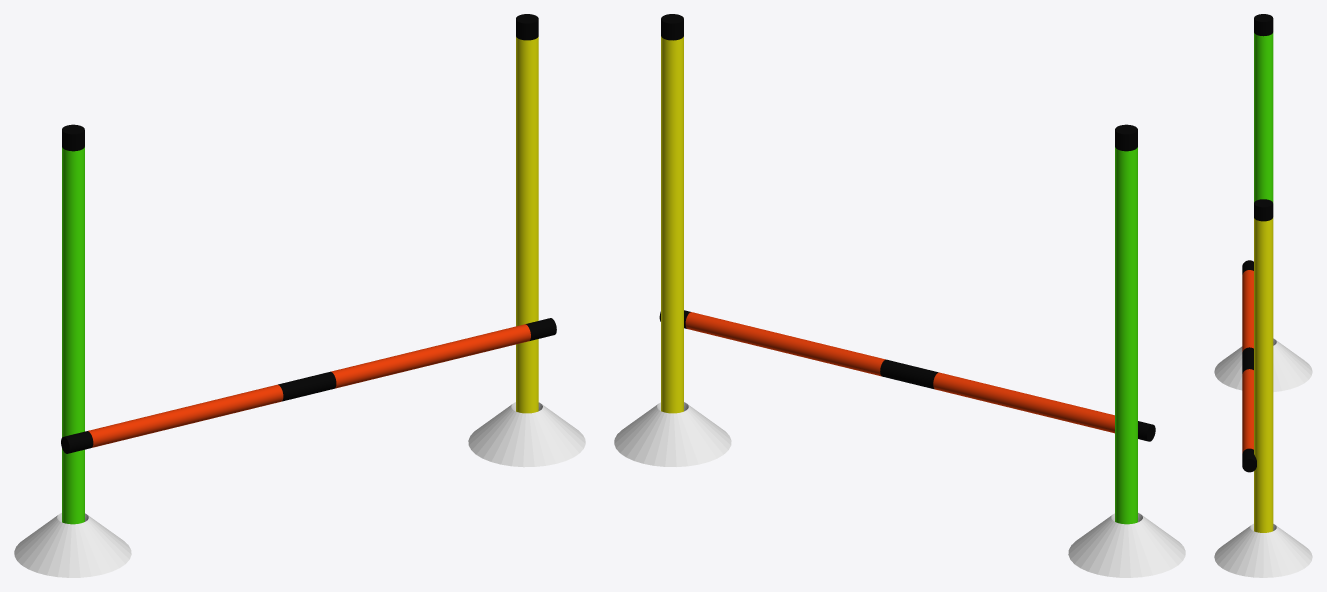
File: barr.fbx
The picture shows the model from 3 angles, left to right: view 1: azimuth 30°, elevation 25°; view 2: azimuth 150°, elevation 25°; view 3: azimuth 270°, elevation 25°; orthographic projection. The views are drawn at different scales.
Visible parts, largest first — view 1: Cylinder.004, Cylinder.002, Cylinder.001, Cylinder.005, Cylinder.003; view 2: Cylinder.002, Cylinder.001, Cylinder.004, Cylinder.003, Cylinder.005; view 3: Cylinder.001, Cylinder.002, Cylinder.005, Cylinder.004, Cylinder.003.
Part boxes in pixels (x1=…): Cylinder.004: x1=61, y1=318, x2=556, y2=453; Cylinder.002: x1=62, y1=124, x2=84, y2=524; Cylinder.001: x1=516, y1=14, x2=538, y2=413; Cylinder.005: x1=468, y1=402, x2=585, y2=467; Cylinder.003: x1=14, y1=513, x2=131, y2=577; Cylinder.002: x1=1115, y1=124, x2=1137, y2=524; Cylinder.001: x1=661, y1=14, x2=683, y2=413; Cylinder.004: x1=659, y1=310, x2=1155, y2=441; Cylinder.003: x1=1068, y1=513, x2=1185, y2=577; Cylinder.005: x1=614, y1=402, x2=731, y2=466; Cylinder.001: x1=1254, y1=199, x2=1273, y2=532; Cylinder.002: x1=1254, y1=14, x2=1273, y2=202; Cylinder.005: x1=1214, y1=523, x2=1312, y2=577; Cylinder.004: x1=1242, y1=260, x2=1256, y2=472; Cylinder.003: x1=1214, y1=338, x2=1312, y2=392.
Bounding box in the file's own units: 767 × 558 × 140.
